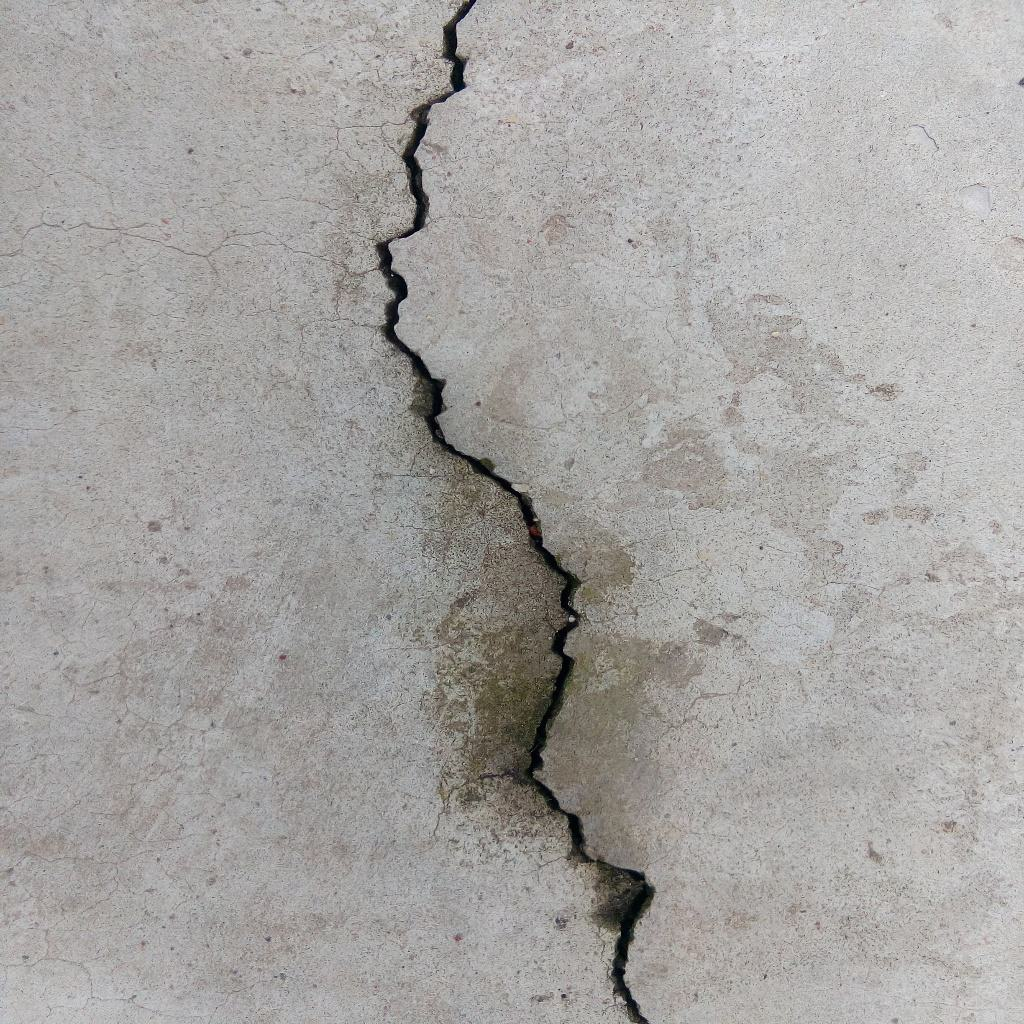Crack: (377, 1, 658, 1024)
